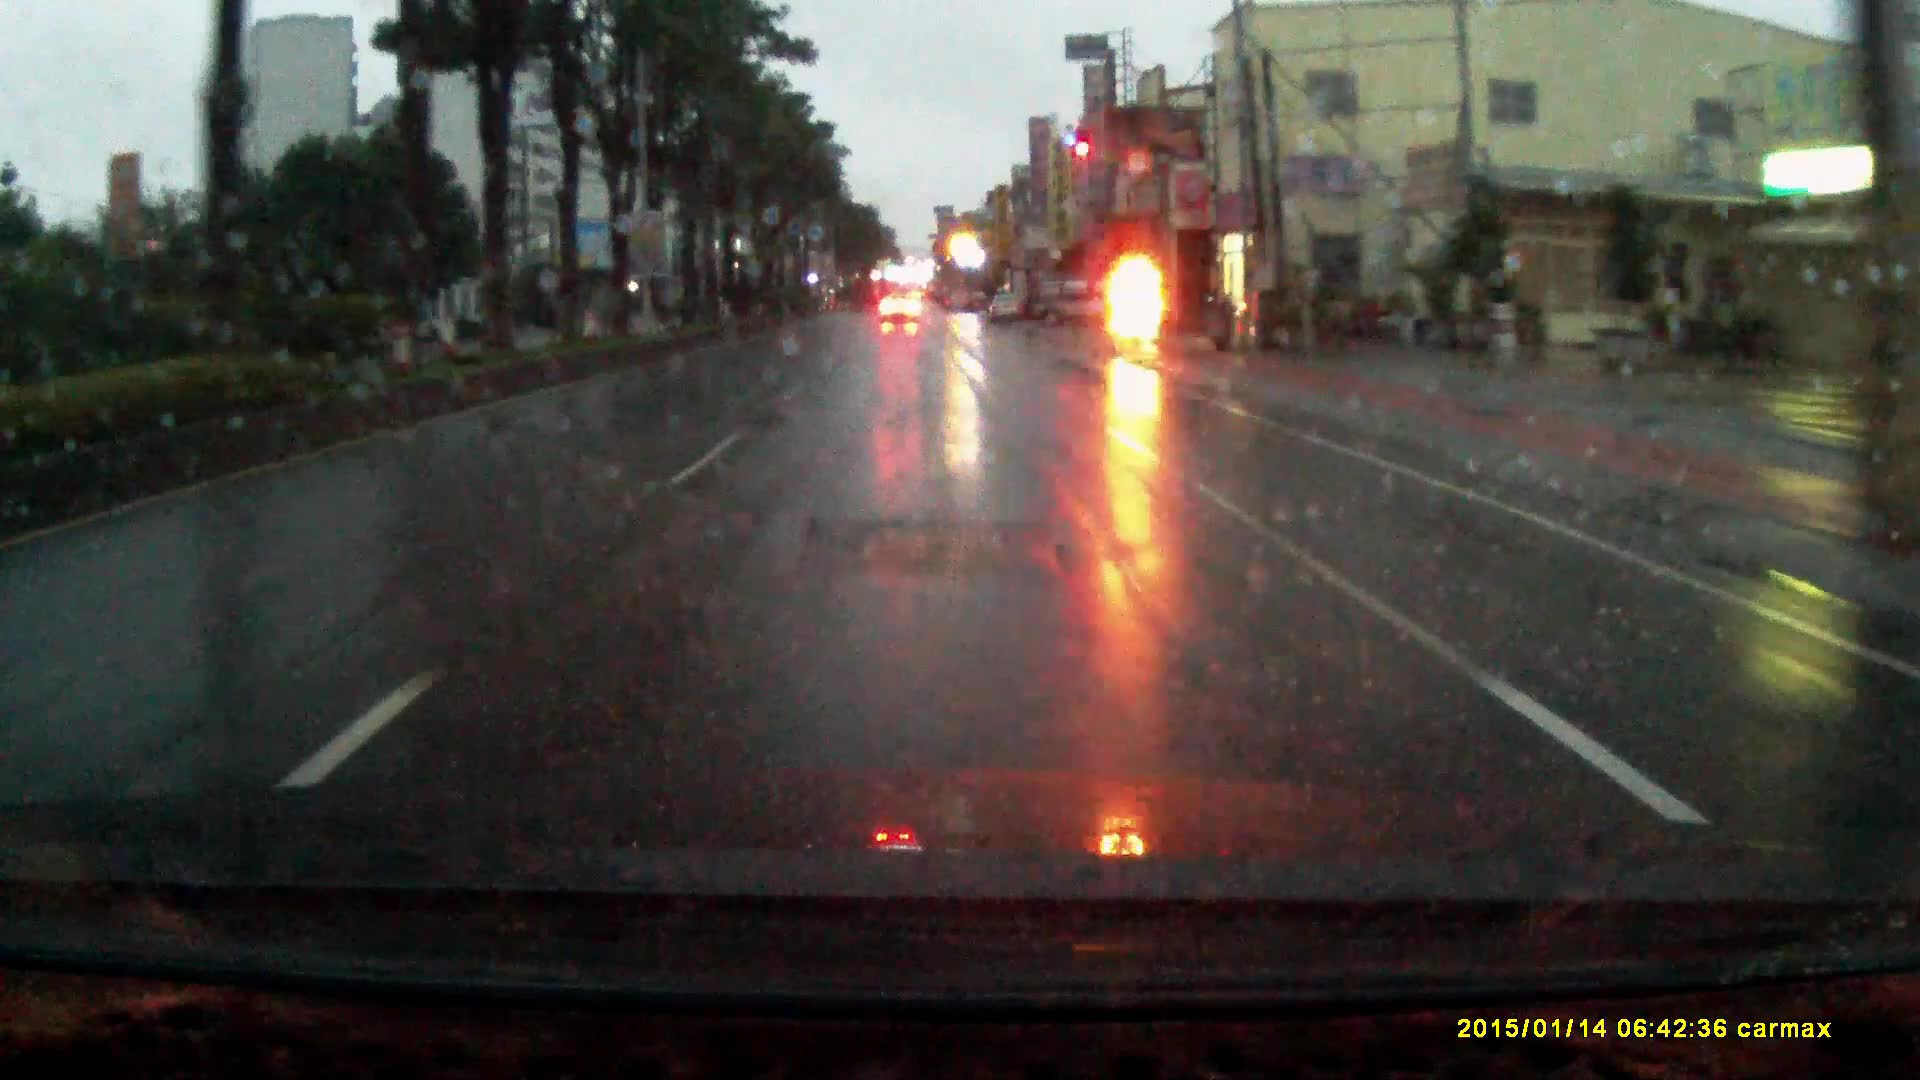vehicle: (1033, 272, 1124, 324), (880, 291, 924, 326)
